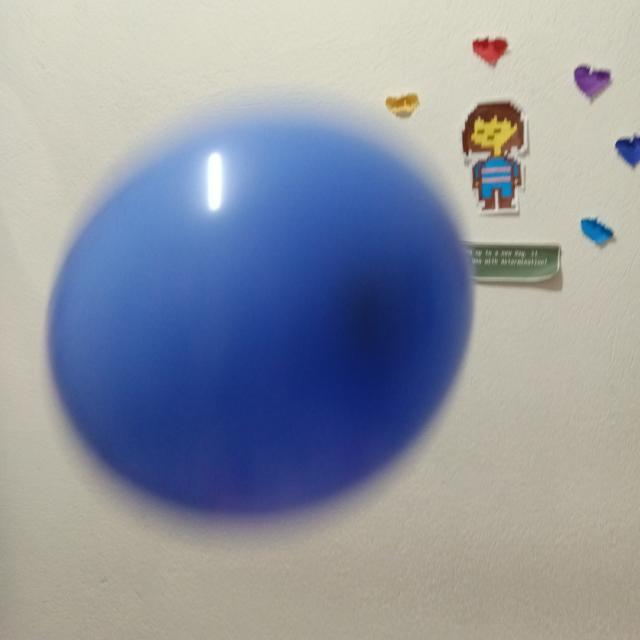blue: (44, 103, 471, 523)
